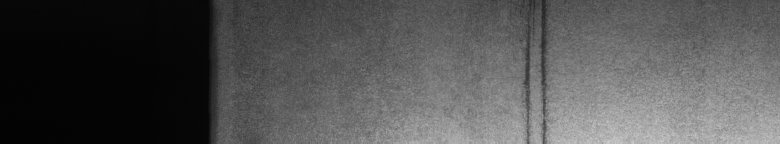hd: (524, 4, 549, 136)
